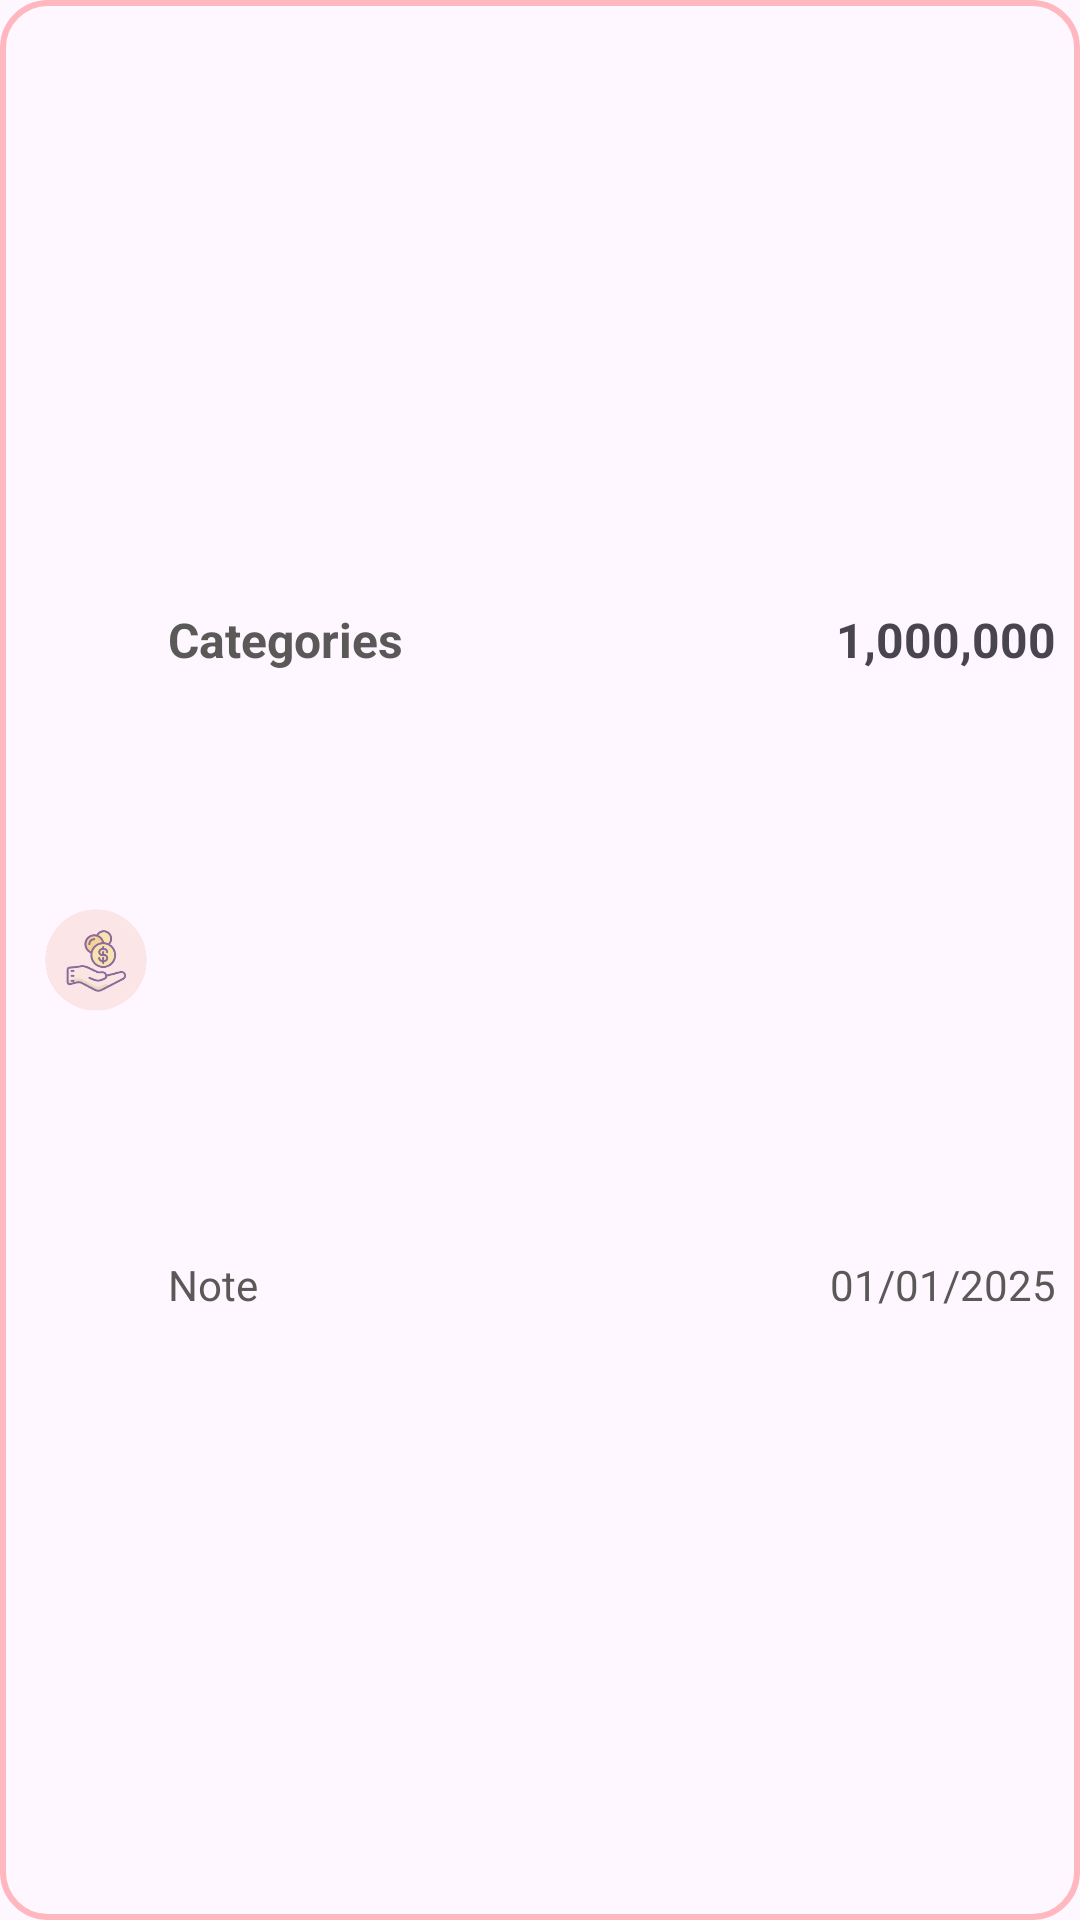

Screen size 1080px x 1920px. Icon name, then its box in pixels as {"left": x1, "top": y1, "right": x2, "bottom": y2}:
salary: {"left": 45, "top": 909, "right": 147, "bottom": 1011}
